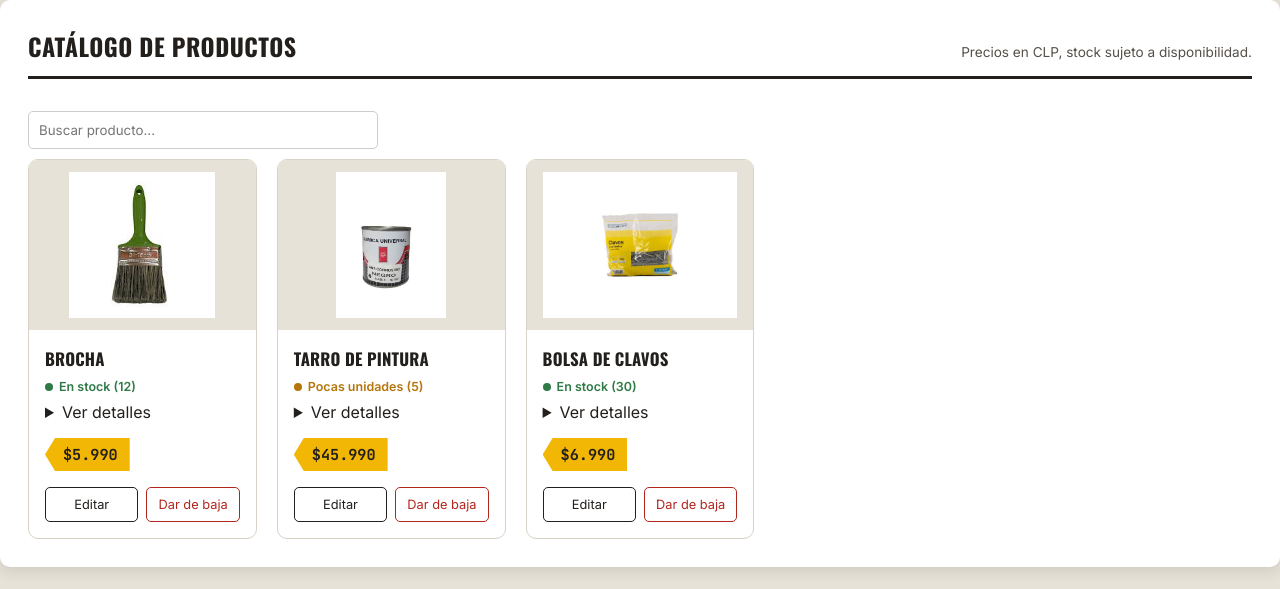
Scenario: El administrador da de baja un producto si lo confirma
# interaccion del usuario
Click the button "Dar de baja" below "$5.990".
click(193, 504)  # box [146, 487, 240, 522]
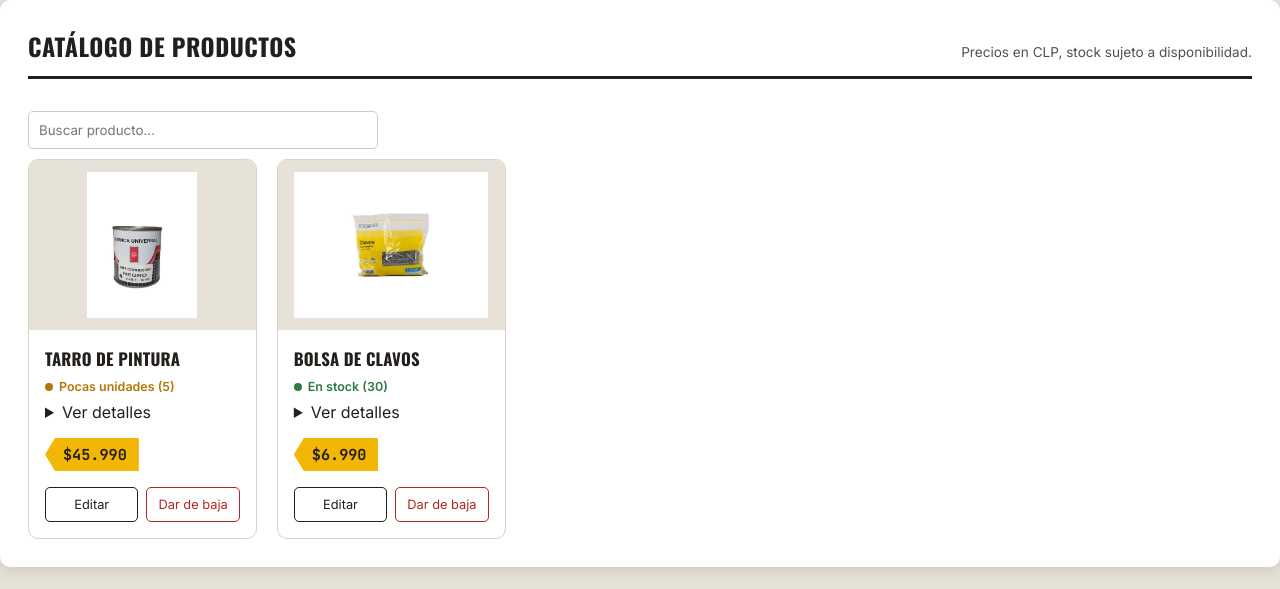
Expected: the heading "Tarro de pintura" is shown, [45, 346, 180, 371]
Expected: the heading "Brocha" is gone
